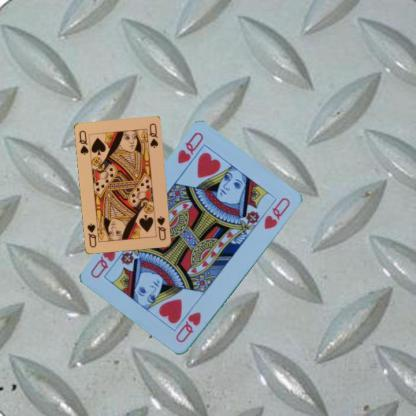Qh: (174, 129, 204, 167), (173, 310, 203, 344)
Qs: (76, 128, 90, 156), (154, 214, 167, 242)
